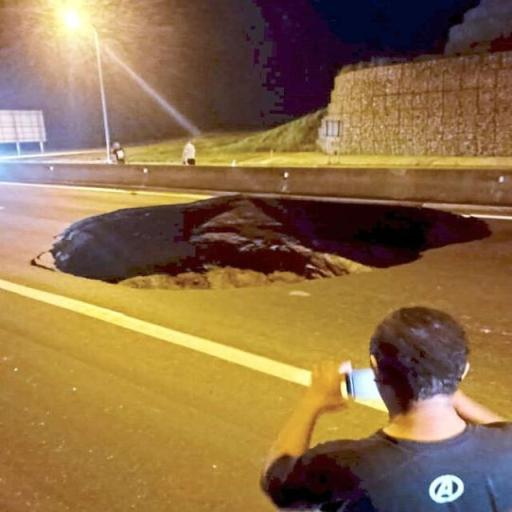Concentric_Crack: (32, 195, 490, 288)
